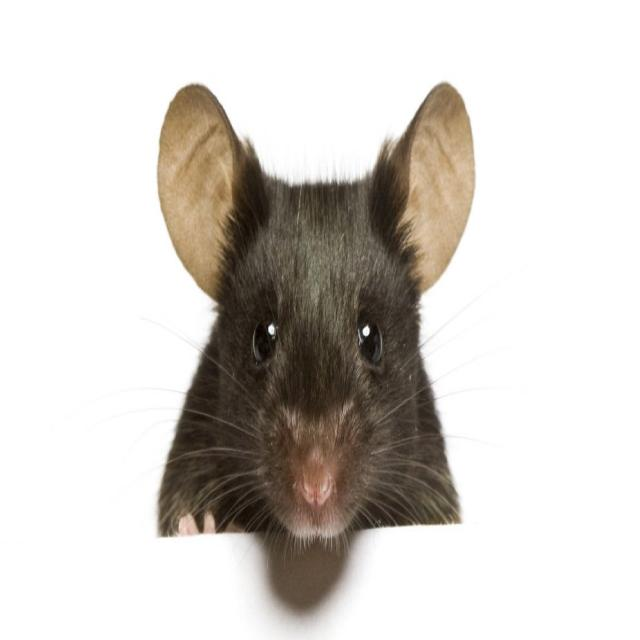Mouse: (143, 72, 487, 573)
